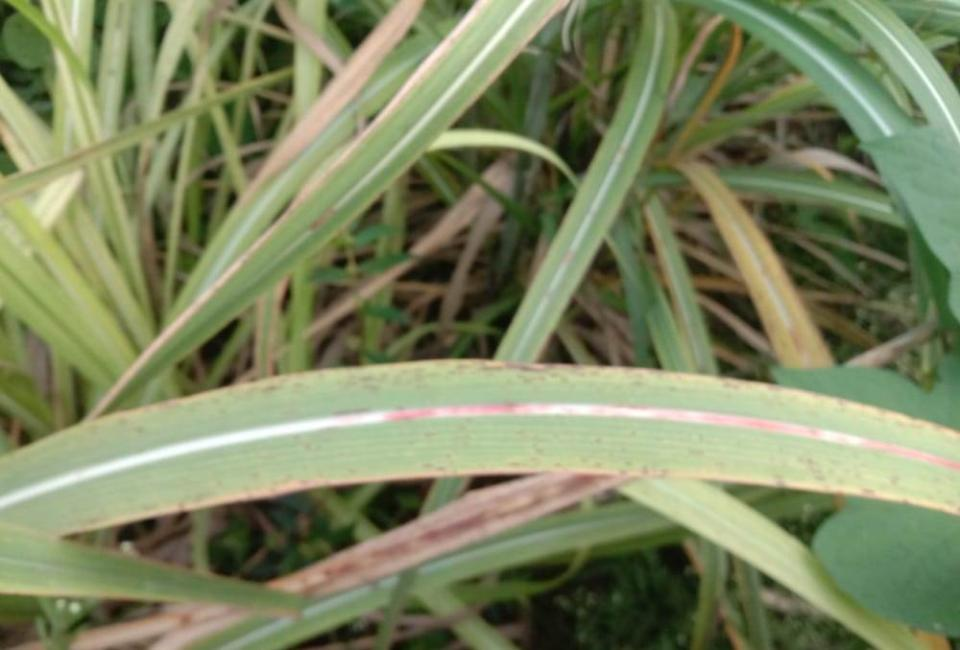RedRot: (381, 403, 959, 471), (310, 206, 338, 232)
